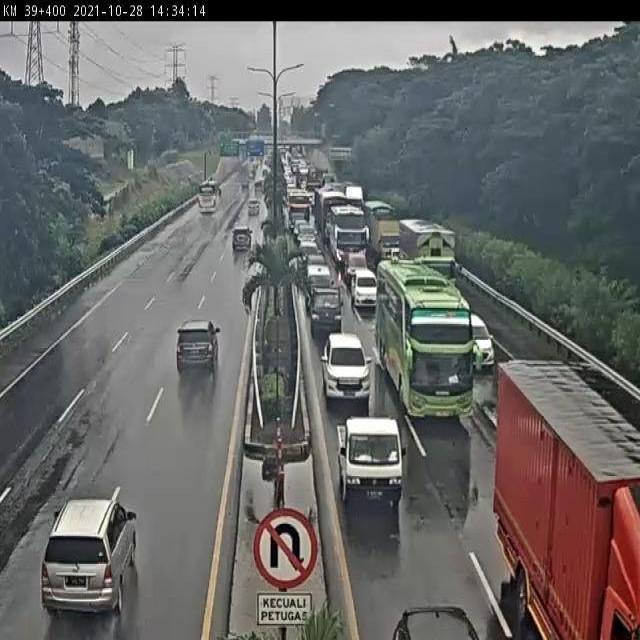bus-l-: (376, 256, 465, 412), (330, 205, 370, 263)
car: (337, 412, 403, 492), (321, 333, 370, 396), (174, 317, 218, 375), (460, 311, 495, 369), (309, 280, 342, 333), (302, 260, 335, 296), (350, 265, 373, 303), (341, 250, 367, 278), (297, 238, 318, 266), (302, 250, 323, 270)
truck-l-: (498, 358, 640, 640)
